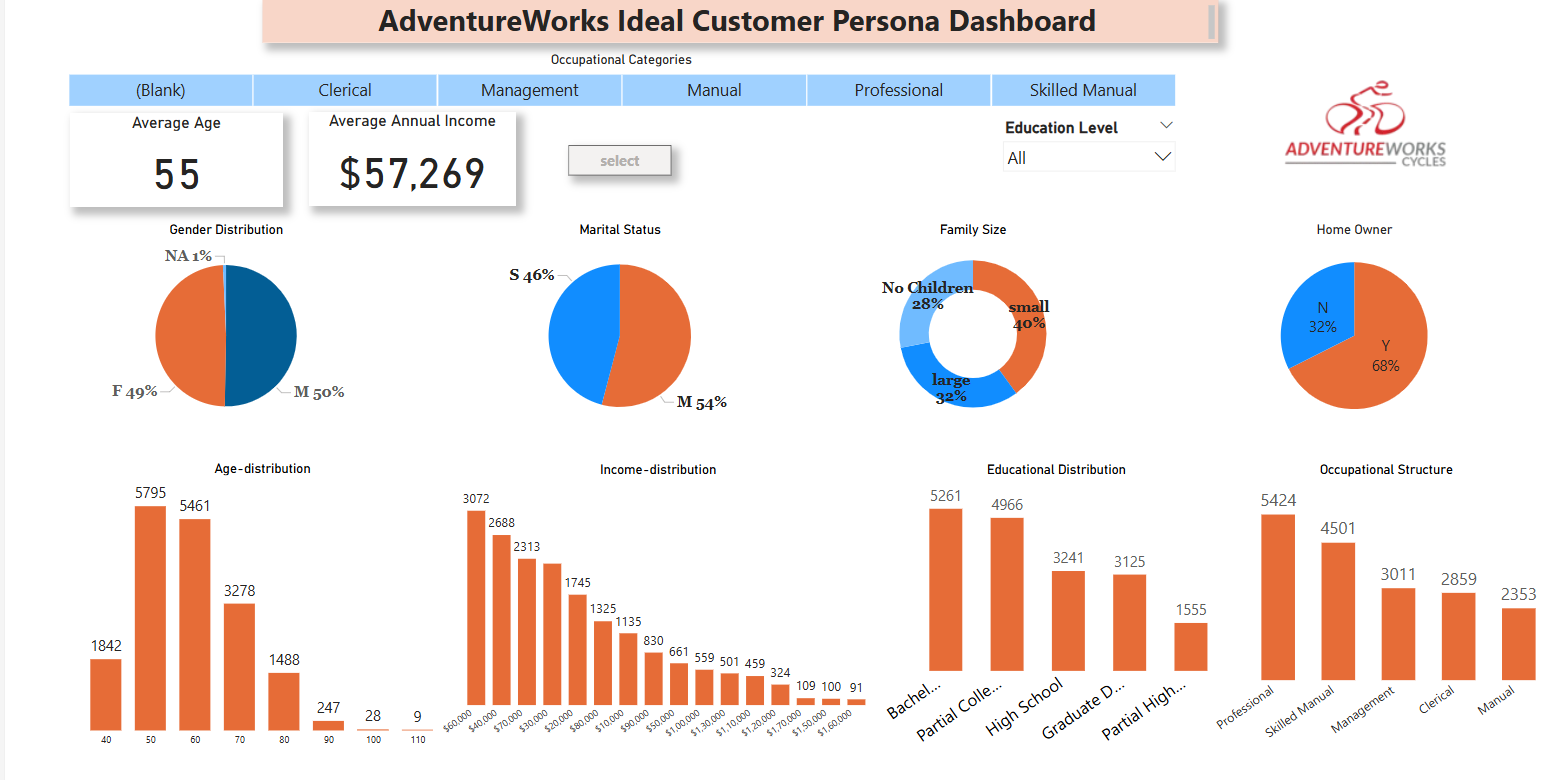

This screenshot's page, from the dashboard's own definition file:
{"tool":"powerbi","page":{"name":"Page 1","canvas":[1280,720],"ordinal":0},"visuals":[{"type":"textbox","box":[21.6,0,367.9,67.8],"z":0},{"type":"pieChart","title":"Gender Distribution","fields":{"Category":["AW_Customers.Gender"],"Y":["CountNonNull(AW_Customers.CustomerKey)"]},"box":[44.3,286.4,255.3,214.5],"z":1000},{"type":"pieChart","title":"Marital Status","fields":{"Y":["CountNonNull(AW_Customers.CustomerKey)"],"Category":["AW_Customers.MaritalStatus"]},"box":[275,286.4,255.7,215.9],"z":2000},{"type":"pieChart","title":"Home Owner","fields":{"Category":["AW_Customers.HomeOwner"],"Y":["CountNonNull(AW_Customers.CustomerKey)"]},"box":[31.7,500.6,268.4,217.9],"z":3000},{"type":"clusteredColumnChart","title":"Age-distribution","fields":{"Y":["CountNonNull(AW_Customers.CustomerKey)"],"Category":["AW_Customers.Age (bins)"]},"box":[282.8,500.6,419.8,217.9],"z":4000},{"type":"donutChart","title":"Family Size","fields":{"Y":["CountNonNull(AW_Customers.CustomerKey)"],"Category":["AW_Customers.Family Size"]},"box":[485.2,286.4,256.8,214.8],"z":5000},{"type":"clusteredColumnChart","title":"Income-distribution","fields":{"Y":["CountNonNull(AW_Customers.CustomerKey)"],"Category":["AW_Customers.AnnualIncome"]},"box":[714.2,502.1,538.2,217.9],"z":6000},{"type":"slicer","title":"Occupational Categories","fields":{"Values":["AW_Customers.Occupation"]},"box":[56.3,79.4,1148.4,66.4],"z":7000},{"type":"slicer","fields":{"Values":["AW_Customers.EducationLevel"]},"box":[896,145.7,308.8,66.4],"z":8000},{"type":"card","fields":{"Values":["Avg(AW_Customers.Age as of 2017)"]},"box":[82.2,145.7,217.9,121.2],"z":9000},{"type":"card","fields":{"Values":["Avg(AW_Customers.AnnualIncome)"]},"box":[348.9,145.5,219.3,121.6],"z":10000},{"type":"clusteredColumnChart","title":"Occupational Structure","fields":{"Y":["CountNonNull(AW_Customers.CustomerKey)"],"Category":["AW_Customers.Occupation"]},"box":[702.3,286.4,309.1,214.8],"z":11000},{"type":"clusteredColumnChart","title":"Educational Distribution","fields":{"Y":["CountNonNull(AW_Customers.CustomerKey)"],"Category":["AW_Customers.EducationLevel"]},"box":[998.9,286.4,280.7,214.8],"z":12000},{"type":"image","box":[984,0,290,106.8],"z":13000}]}

Visuals, with their boxes on the page's 1280x720 design canvas (x1, y1, x2, y2). These are canvas units, not pixel positions in the 1552x780 screenshot, which may show the page scaled, cropped or inside an application window:
textbox: crop(22, 0, 390, 68)
"Gender Distribution" pieChart: crop(44, 286, 300, 501)
"Marital Status" pieChart: crop(275, 286, 531, 502)
"Home Owner" pieChart: crop(32, 501, 300, 718)
"Age-distribution" clusteredColumnChart: crop(283, 501, 703, 718)
"Family Size" donutChart: crop(485, 286, 742, 501)
"Income-distribution" clusteredColumnChart: crop(714, 502, 1252, 720)
"Occupational Categories" slicer: crop(56, 79, 1205, 146)
slicer - AW_Customers.EducationLevel: crop(896, 146, 1205, 212)
card - Avg(AW_Customers.Age as of 2017): crop(82, 146, 300, 267)
card - Avg(AW_Customers.AnnualIncome): crop(349, 146, 568, 267)
"Occupational Structure" clusteredColumnChart: crop(702, 286, 1011, 501)
"Educational Distribution" clusteredColumnChart: crop(999, 286, 1280, 501)
image: crop(984, 0, 1274, 107)
